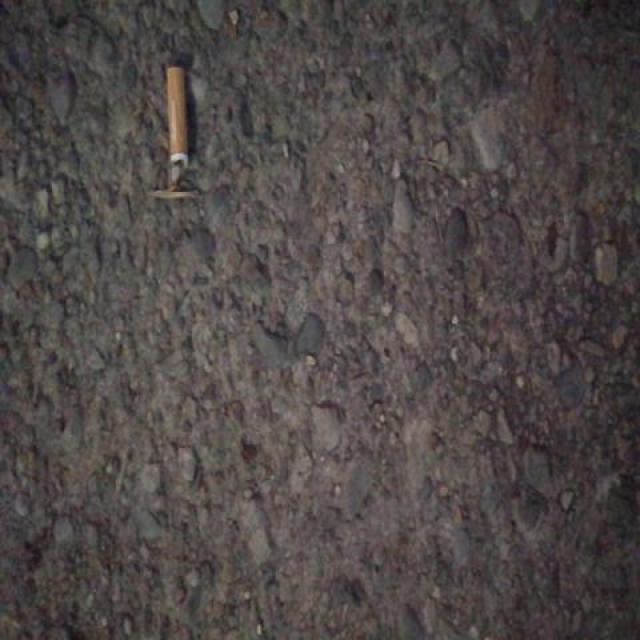non-organic waste: (160, 60, 197, 189)
